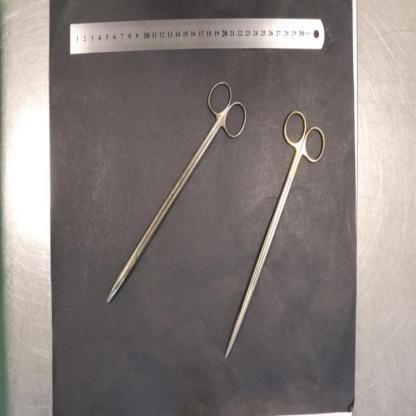7 Metzenbaum Scissors: (226, 109, 326, 359)
9 Metzenbaum Scissors: (106, 79, 249, 306)
